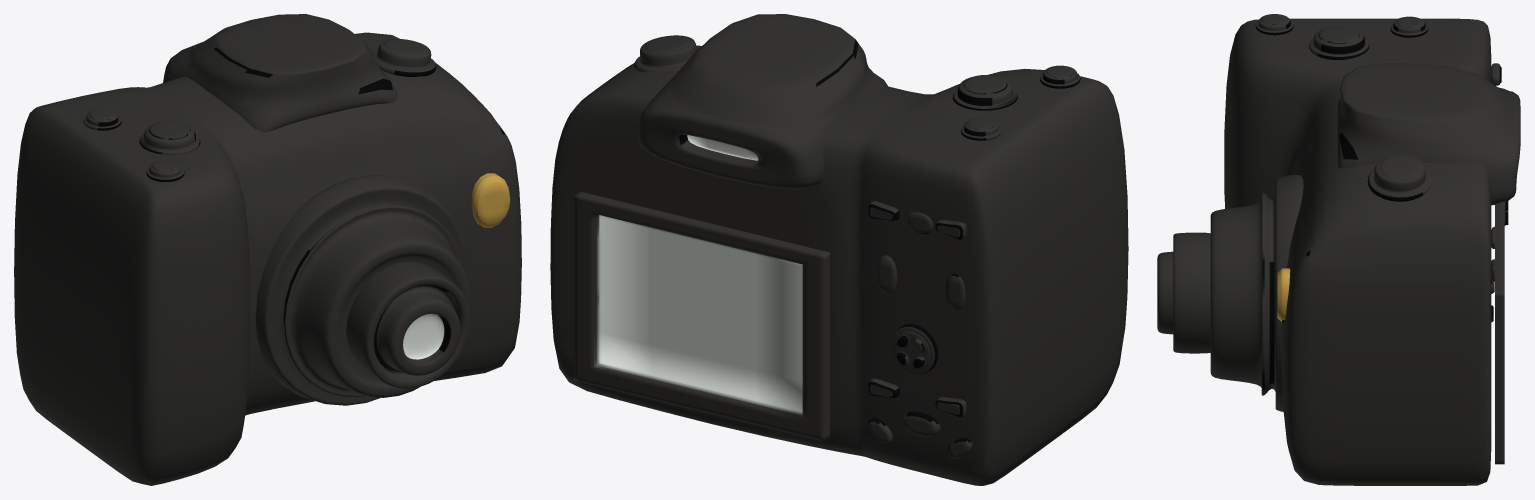
File: Camera.fbx
The picture shows the model from 3 angles, left to right: view 1: azimuth 30°, elevation 25°; view 2: azimuth 150°, elevation 25°; view 3: azimuth 270°, elevation 25°; orthographic projection. The views are drawn at different scales.
Visible parts, largest first — view 1: Camera; view 2: Camera; view 3: Camera.
Part boxes in pixels (left/top/right/bottom): Camera: left=14, top=14, right=521, bottom=485; Camera: left=550, top=14, right=1128, bottom=485; Camera: left=1157, top=14, right=1520, bottom=485.
Bounding box in the file's own units: 41.46 × 32.25 × 31.8.
